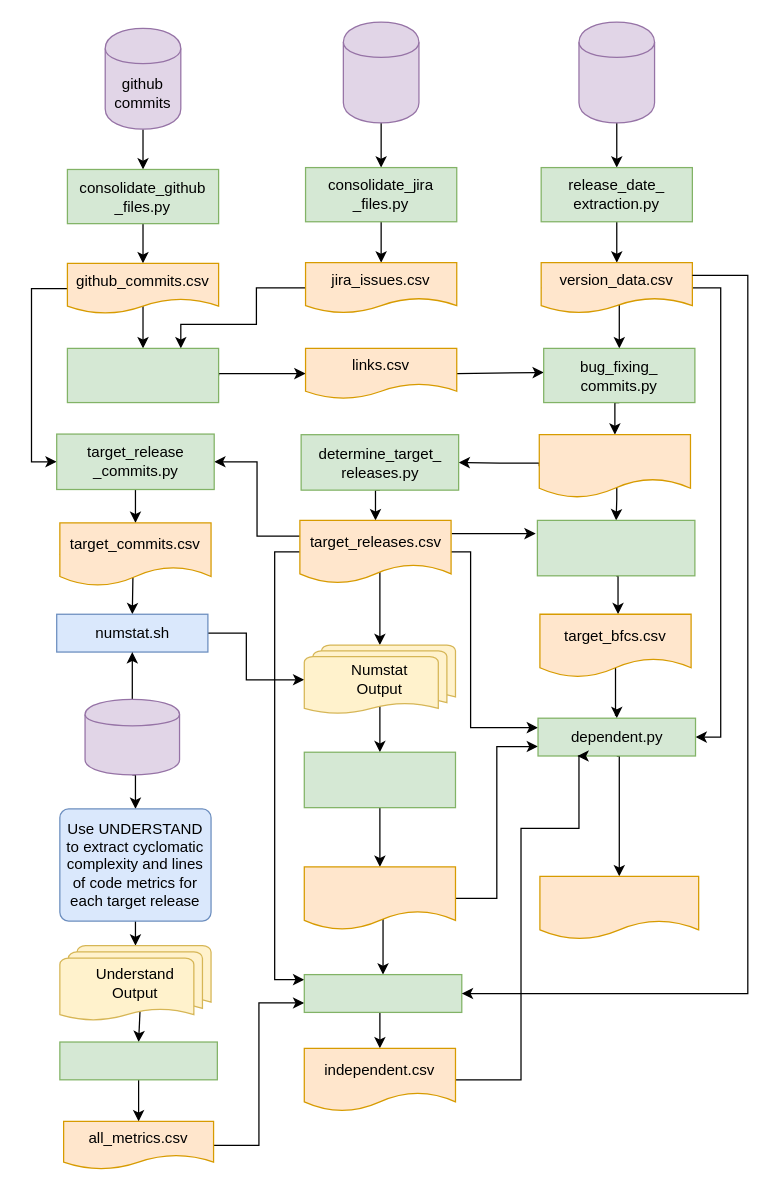
Image size: 780x1192. Some labels were removed from this diagram. The shapes that lost their labels are listed below. From the top down, each one's centre as x and y in pixels, then its label:
At (380,72): "JIRA Issues".
At (616,72): "Release Dates".
At (142,375): "link_issues_ with_commits.py".
At (614,465): "bug_fixing_ commits.csv".
At (615,547): "target_bfcs.py".
At (132,736): "Cloned Repos".
At (379,779): "numstat_la_ld_ extraction.py".
At (379,898): "all_numstats.csv".
At (619,907): "final.csv".
At (382,992): "independent.py".
At (138,1060): "format_metrics.py".
